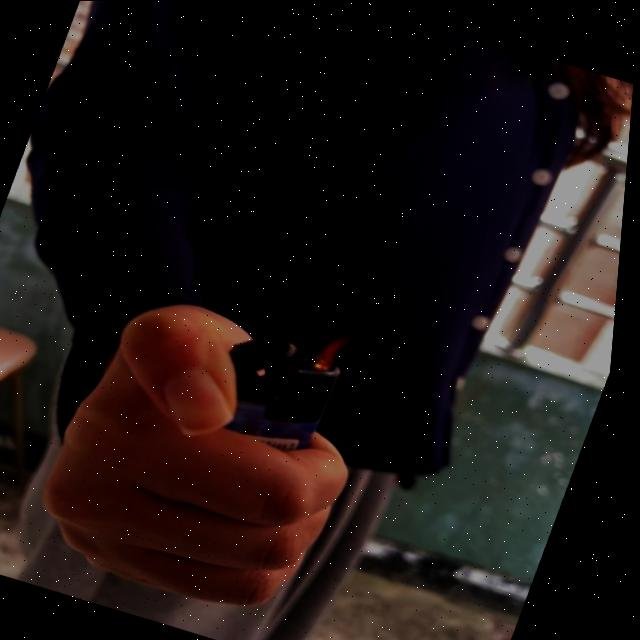Fire: (313, 318, 378, 377)
